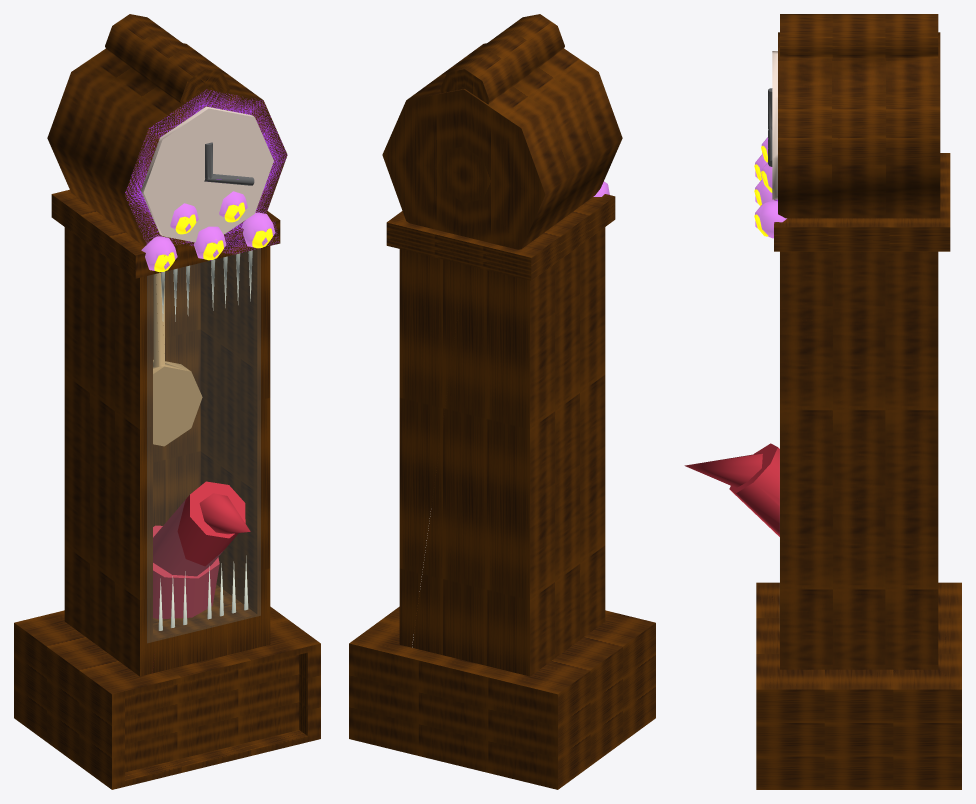
The model's file is clock.gltf.
3 views of the same model, side by side, from view 1: azimuth 30°, elevation 25°; view 2: azimuth 150°, elevation 25°; view 3: azimuth 270°, elevation 25° (orthographic). The views are drawn at different scales.
Visible parts, largest first — view 1: CSGBox3D2, Glass2, CSGCylinder3D7, CSGBox3D6, Eye32, Eye23, Eye2, Eye42, Eye52; view 2: CSGBox3D2; view 3: CSGBox3D2, CSGCylinder3D7, Eye23.
Part boxes in pixels (x1=…): CSGBox3D2: x1=14, y1=14, x2=320, y2=789; Glass2: x1=147, y1=249, x2=260, y2=642; CSGCylinder3D7: x1=152, y1=481, x2=250, y2=672; CSGBox3D6: x1=125, y1=89, x2=287, y2=253; Eye32: x1=141, y1=236, x2=177, y2=272; Eye23: x1=241, y1=212, x2=275, y2=248; Eye2: x1=194, y1=226, x2=226, y2=260; Eye42: x1=219, y1=191, x2=247, y2=222; Eye52: x1=170, y1=203, x2=198, y2=234; CSGBox3D2: x1=349, y1=14, x2=655, y2=789; CSGBox3D2: x1=756, y1=14, x2=961, y2=789; CSGCylinder3D7: x1=684, y1=443, x2=779, y2=536; Eye23: x1=754, y1=200, x2=786, y2=238.
Bounding box in the file's own units: 1.28 × 4.02 × 1.4.
Materials: 12 (3 with a texture image).
